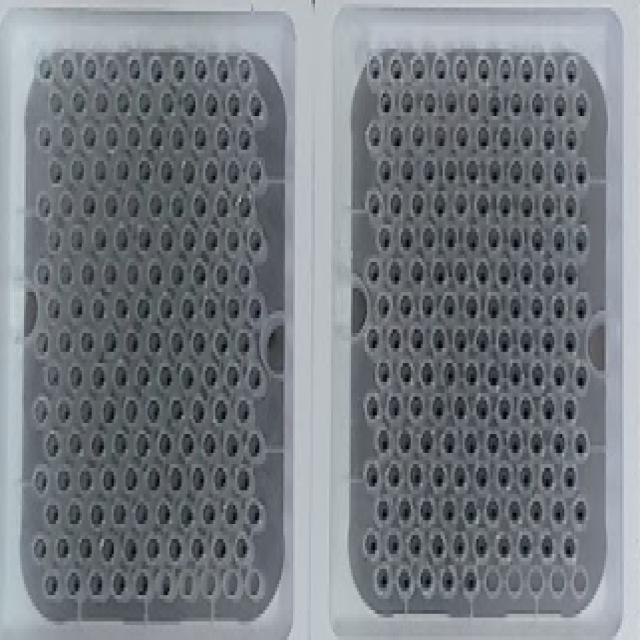vial: (374, 563, 390, 596), (408, 530, 421, 556), (46, 432, 59, 458), (91, 366, 105, 390), (364, 533, 378, 556), (386, 533, 400, 556), (236, 399, 250, 422), (486, 497, 499, 521), (412, 56, 425, 80), (101, 537, 114, 561), (68, 570, 80, 595), (398, 568, 411, 591), (432, 533, 445, 556), (366, 397, 379, 420), (531, 160, 544, 183), (89, 573, 102, 596), (125, 467, 138, 490), (215, 399, 228, 422), (125, 399, 138, 422), (35, 399, 48, 422), (171, 331, 184, 354), (216, 59, 229, 82), (410, 394, 422, 418), (388, 394, 400, 418), (389, 260, 401, 284), (412, 192, 424, 216), (169, 537, 181, 561), (432, 465, 445, 487), (410, 462, 421, 488), (432, 329, 445, 351), (542, 195, 555, 217), (91, 504, 104, 526), (91, 434, 104, 456), (126, 331, 139, 353), (442, 568, 454, 591), (476, 329, 488, 352), (510, 160, 522, 183), (412, 124, 424, 147), (390, 124, 402, 147), (554, 94, 566, 117), (192, 467, 204, 490), (148, 467, 160, 490), (192, 399, 204, 422), (238, 331, 250, 354), (238, 263, 250, 286), (116, 228, 128, 251), (94, 228, 106, 251), (239, 195, 251, 218), (239, 127, 251, 150), (139, 92, 151, 115), (239, 59, 251, 82), (475, 535, 488, 556), (552, 500, 565, 521), (366, 329, 379, 350), (191, 537, 204, 558), (45, 575, 58, 596), (69, 434, 82, 455), (181, 366, 194, 387), (215, 333, 228, 354), (205, 230, 218, 251), (105, 195, 118, 216), (205, 162, 218, 183), (116, 160, 129, 181), (71, 160, 84, 181), (95, 92, 108, 113), (72, 92, 85, 113), (61, 59, 74, 80), (498, 535, 510, 557), (420, 568, 432, 590), (421, 429, 432, 453), (510, 361, 521, 385), (444, 361, 455, 385), (411, 326, 422, 350), (434, 260, 445, 284), (411, 260, 422, 284), (510, 228, 522, 250), (434, 192, 445, 216), (576, 94, 588, 116), (456, 59, 468, 81), (435, 56, 446, 80), (136, 573, 148, 595), (125, 537, 136, 561), (69, 502, 81, 524), (249, 434, 260, 458), (249, 366, 261, 388), (149, 263, 161, 285), (216, 195, 228, 217), (172, 195, 184, 217), (172, 127, 184, 149), (50, 92, 62, 114), (61, 127, 74, 147), (564, 535, 575, 558), (554, 432, 565, 455), (455, 329, 466, 352), (554, 228, 565, 251), (531, 228, 542, 251), (369, 192, 380, 215), (390, 192, 401, 215), (521, 59, 532, 82), (369, 56, 380, 79), (170, 467, 181, 490), (148, 399, 159, 422), (184, 228, 195, 251), (71, 228, 82, 251), (39, 195, 50, 218), (218, 127, 229, 150), (464, 570, 476, 591), (399, 500, 411, 521), (509, 500, 521, 521), (530, 500, 542, 521), (366, 465, 378, 486), (509, 432, 521, 453), (476, 397, 488, 418), (432, 397, 444, 418), (576, 366, 588, 387), (542, 331, 554, 352), (389, 329, 401, 350), (466, 296, 478, 317), (466, 228, 478, 249), (466, 160, 478, 181), (369, 124, 381, 145), (532, 94, 544, 115), (390, 59, 402, 80), (236, 537, 248, 558), (214, 537, 226, 558), (34, 537, 46, 558), (248, 502, 260, 523), (226, 502, 238, 523), (158, 502, 170, 523), (136, 502, 148, 523), (58, 469, 70, 490), (226, 434, 238, 455), (182, 434, 194, 455), (159, 434, 171, 455), (58, 401, 70, 422), (70, 366, 82, 387), (36, 333, 48, 354), (249, 298, 261, 319), (182, 298, 194, 319), (138, 298, 150, 319), (48, 298, 60, 319), (249, 230, 261, 251), (49, 230, 61, 251), (194, 195, 206, 216), (50, 162, 62, 183), (128, 127, 140, 148), (106, 127, 118, 148), (39, 127, 51, 148), (206, 94, 218, 115), (106, 59, 118, 80), (39, 59, 51, 80), (46, 504, 59, 523), (171, 265, 184, 284), (161, 94, 174, 113), (465, 500, 476, 522), (575, 500, 586, 522), (531, 432, 542, 454), (488, 364, 499, 386), (554, 296, 565, 318), (510, 296, 521, 318), (368, 260, 379, 282), (500, 59, 511, 81), (181, 504, 192, 526), (139, 228, 150, 250), (128, 195, 139, 217), (174, 59, 185, 81), (476, 467, 488, 487), (532, 364, 544, 384), (422, 361, 432, 385), (456, 260, 466, 284), (456, 127, 468, 147), (48, 366, 60, 386), (216, 265, 228, 285), (541, 535, 552, 556), (520, 535, 531, 556), (454, 535, 465, 556), (421, 500, 432, 521), (564, 467, 575, 488), (389, 465, 400, 486), (400, 432, 411, 453), (554, 364, 565, 385), (565, 331, 576, 352), (499, 331, 510, 352), (531, 296, 542, 317), (565, 263, 576, 284), (521, 263, 532, 284), (499, 263, 510, 284), (424, 228, 435, 249), (401, 228, 412, 249), (379, 228, 390, 249), (478, 195, 489, 216), (500, 195, 511, 216), (521, 195, 532, 216), (554, 162, 565, 183), (380, 160, 391, 181), (435, 127, 446, 148), (445, 92, 456, 113), (380, 92, 391, 113), (148, 537, 159, 558), (114, 573, 125, 594), (58, 537, 69, 558), (80, 537, 91, 558), (204, 502, 215, 523), (238, 469, 249, 490), (215, 467, 226, 488), (104, 469, 115, 490), (80, 469, 91, 490), (204, 434, 215, 455), (138, 434, 149, 455), (171, 399, 182, 420), (104, 401, 115, 422), (80, 401, 91, 422), (205, 366, 216, 387), (160, 366, 171, 387), (194, 333, 205, 354), (105, 331, 116, 352), (228, 298, 239, 319), (205, 298, 216, 319), (71, 296, 82, 317), (194, 263, 205, 284), (105, 263, 116, 284), (228, 230, 239, 251), (161, 230, 172, 251), (150, 195, 161, 216), (84, 195, 95, 216), (61, 195, 72, 216), (250, 162, 261, 183), (228, 162, 239, 183), (184, 162, 195, 183), (161, 162, 172, 183), (95, 160, 106, 181), (195, 127, 206, 148), (84, 127, 95, 148), (250, 96, 261, 117), (184, 94, 195, 115), (118, 92, 129, 113), (195, 59, 206, 80), (151, 61, 162, 82), (129, 59, 140, 80), (379, 429, 389, 452), (566, 59, 576, 82), (114, 504, 126, 523), (116, 298, 128, 317), (82, 265, 94, 284), (378, 500, 389, 520), (575, 434, 586, 454), (499, 399, 510, 419), (400, 296, 411, 316), (566, 195, 576, 217), (576, 162, 586, 184), (521, 127, 532, 147), (35, 472, 46, 492), (115, 434, 126, 454), (115, 366, 126, 386), (444, 500, 454, 521), (542, 467, 552, 488), (521, 467, 531, 488), (499, 467, 509, 488), (444, 432, 454, 453), (565, 399, 575, 420), (544, 399, 554, 420), (521, 399, 531, 420), (466, 364, 476, 385), (401, 361, 411, 382), (379, 361, 389, 382), (521, 331, 531, 352), (576, 298, 586, 319), (489, 296, 499, 317), (379, 296, 389, 317), (478, 263, 488, 284), (576, 230, 586, 251), (489, 228, 499, 249), (445, 228, 455, 249), (402, 160, 412, 181), (566, 129, 576, 150), (500, 127, 510, 148), (479, 127, 489, 148), (511, 94, 521, 115), (402, 92, 412, 113), (544, 61, 554, 82), (479, 59, 489, 80), (161, 298, 171, 319), (94, 298, 104, 319), (128, 263, 138, 284), (151, 127, 161, 148), (229, 94, 239, 115), (488, 434, 499, 453), (465, 434, 476, 453), (445, 162, 456, 181), (489, 96, 500, 115), (228, 366, 239, 385), (149, 333, 160, 352), (81, 333, 92, 352), (60, 265, 71, 284), (38, 265, 49, 284), (139, 162, 150, 181), (455, 397, 465, 417), (444, 296, 454, 316), (490, 162, 500, 182), (544, 129, 554, 149), (138, 366, 149, 384), (85, 59, 96, 77), (455, 467, 465, 486), (544, 265, 554, 284), (456, 195, 466, 214), (424, 162, 434, 181), (469, 94, 479, 113), (425, 94, 435, 113), (60, 333, 70, 352), (161, 575, 170, 596), (422, 296, 432, 314)
